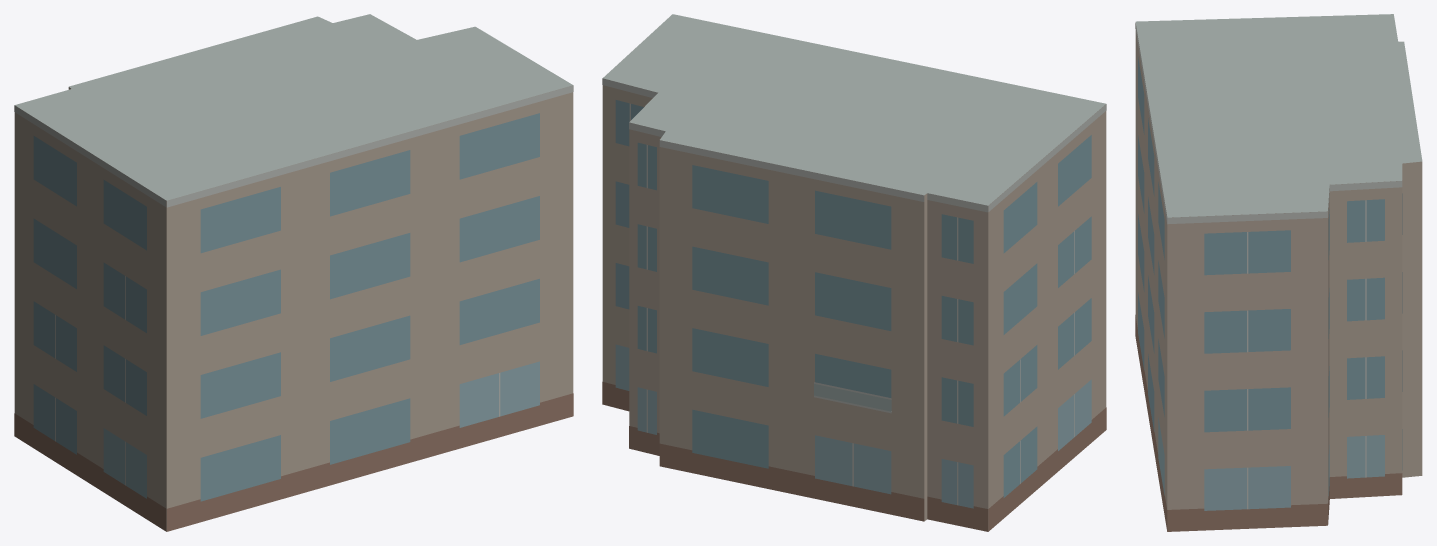
Rendered from survey-upis-32631464.glb.
The picture shows the model from 3 angles, left to right: view 1: azimuth 30°, elevation 25°; view 2: azimuth 150°, elevation 25°; view 3: azimuth 270°, elevation 25°; orthographic projection. The views are drawn at different scales.
Visible parts, largest first — view 1: survey-upis-32631464.tmp; view 2: survey-upis-32631464.tmp; view 3: survey-upis-32631464.tmp.
Part boxes in pixels (x1,y1,x2,y2): survey-upis-32631464.tmp: (14, 14, 573, 531); survey-upis-32631464.tmp: (602, 14, 1106, 531); survey-upis-32631464.tmp: (1135, 14, 1422, 531).
Bounding box in the file's own units: 16.27 × 11.7 × 9.7.
